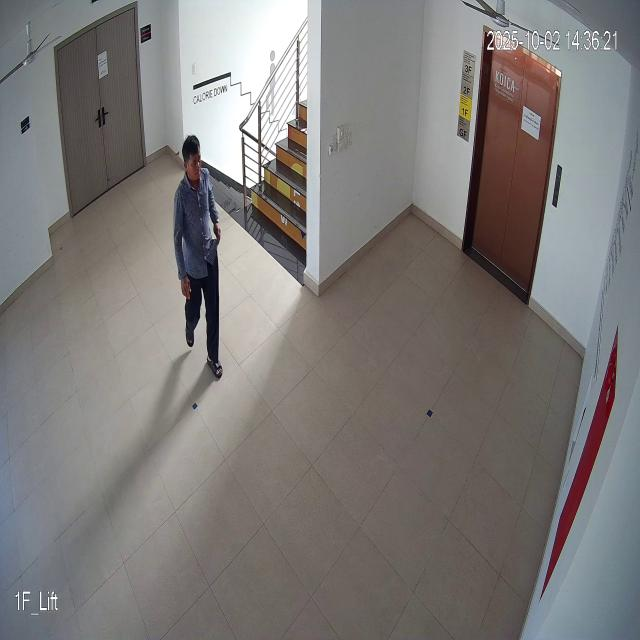face: (180, 128, 206, 189)
